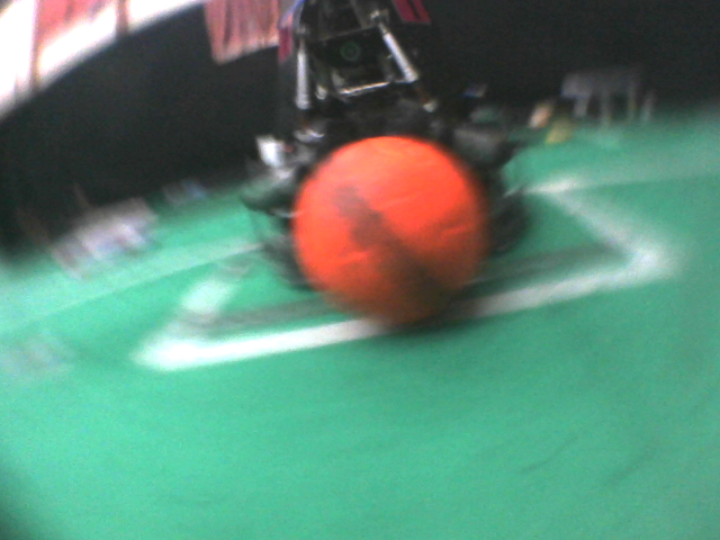bola: (276, 127, 511, 345)
